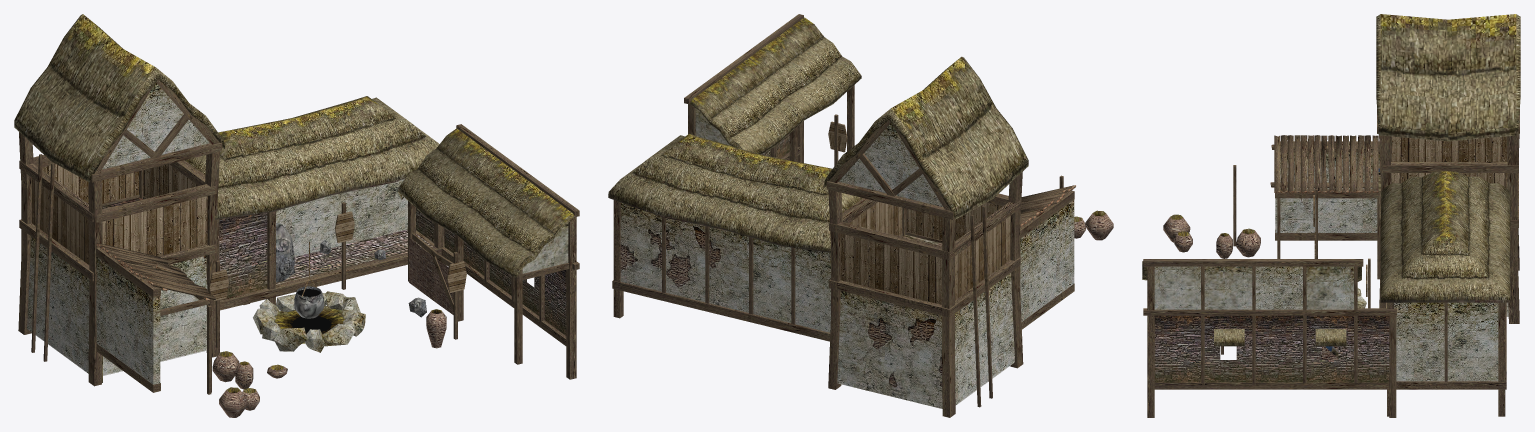
File: celt_temple.dae
The picture shows the model from 3 angles, left to right: view 1: azimuth 30°, elevation 25°; view 2: azimuth 150°, elevation 25°; view 3: azimuth 270°, elevation 25°; orthographic projection. The views are drawn at different scales.
Parts seen in each view (by area): view 1: propnew; view 2: propnew; view 3: propnew.
Part boxes in pixels (left/top/right/bottom): propnew: left=14, top=14, right=579, bottom=417; propnew: left=608, top=14, right=1113, bottom=417; propnew: left=1142, top=14, right=1520, bottom=417.
Bounding box in the file's own units: 21.13 × 16.46 × 19.86.
